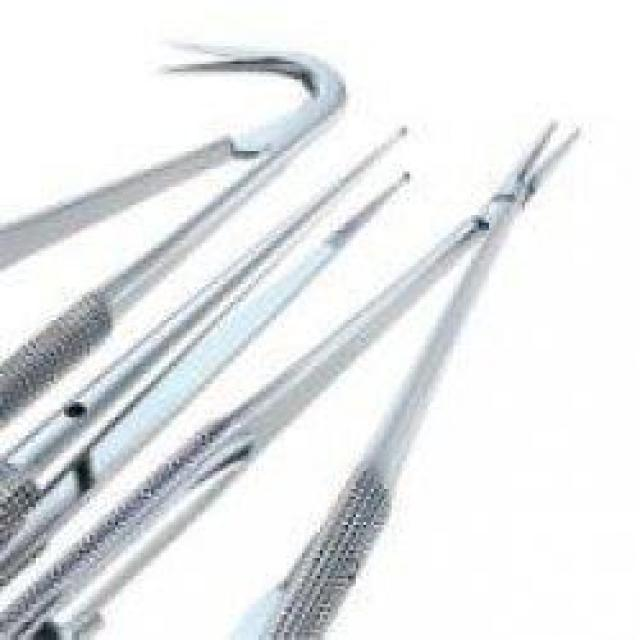Castroviejo: (5, 112, 586, 640)
Forceps: (5, 115, 417, 586)
Potts: (0, 36, 353, 425)
